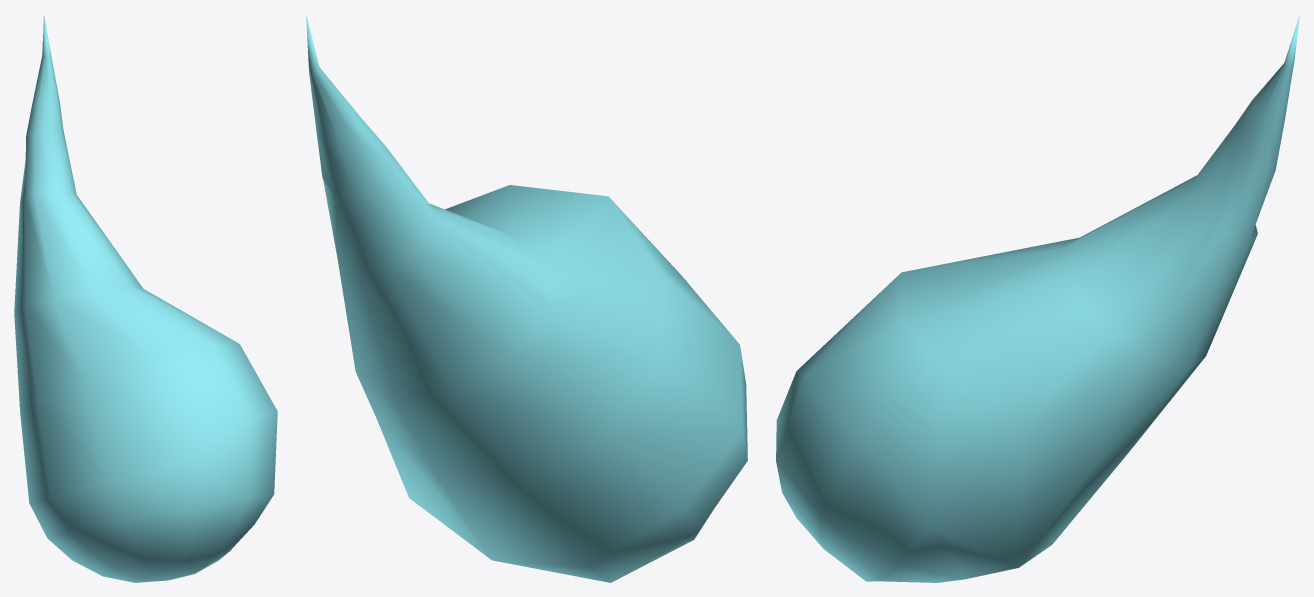
File: drop.glb
The picture shows the model from 3 angles, left to right: view 1: azimuth 30°, elevation 25°; view 2: azimuth 150°, elevation 25°; view 3: azimuth 270°, elevation 25°; orthographic projection. The views are drawn at different scales.
Parts seen in each view (by area): view 1: Sphere; view 2: Sphere; view 3: Sphere.
Part boxes in pixels (box(x1,y1,x2,y2)): Sphere: box(14, 15, 277, 582); Sphere: box(306, 14, 747, 582); Sphere: box(776, 15, 1299, 582).
Size of the model in its own units: 0.5027 by 0.9954 by 0.8189.
